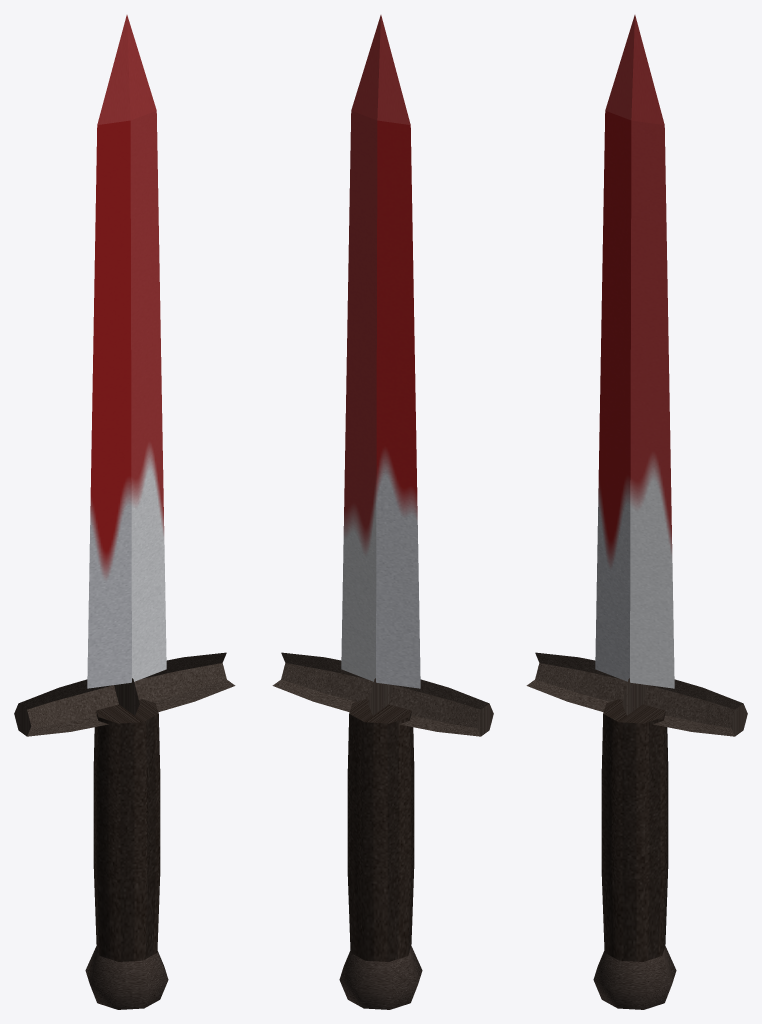
The model's file is mm7_m430_dagger.glb.
3 views of the same model, side by side, from view 1: azimuth 30°, elevation 25°; view 2: azimuth 150°, elevation 25°; view 3: azimuth 330°, elevation 25° (orthographic).
Visible parts, largest first — view 1: Dagger; view 2: Dagger; view 3: Dagger.
Boxes of the visible parts, left/top/right/bottom form: Dagger: left=14, top=15, right=235, bottom=1009; Dagger: left=272, top=15, right=493, bottom=1009; Dagger: left=526, top=15, right=747, bottom=1009.
Bounding box in the file's own units: 0.084 × 0.378 × 0.03.
1 material, 1 textured.
